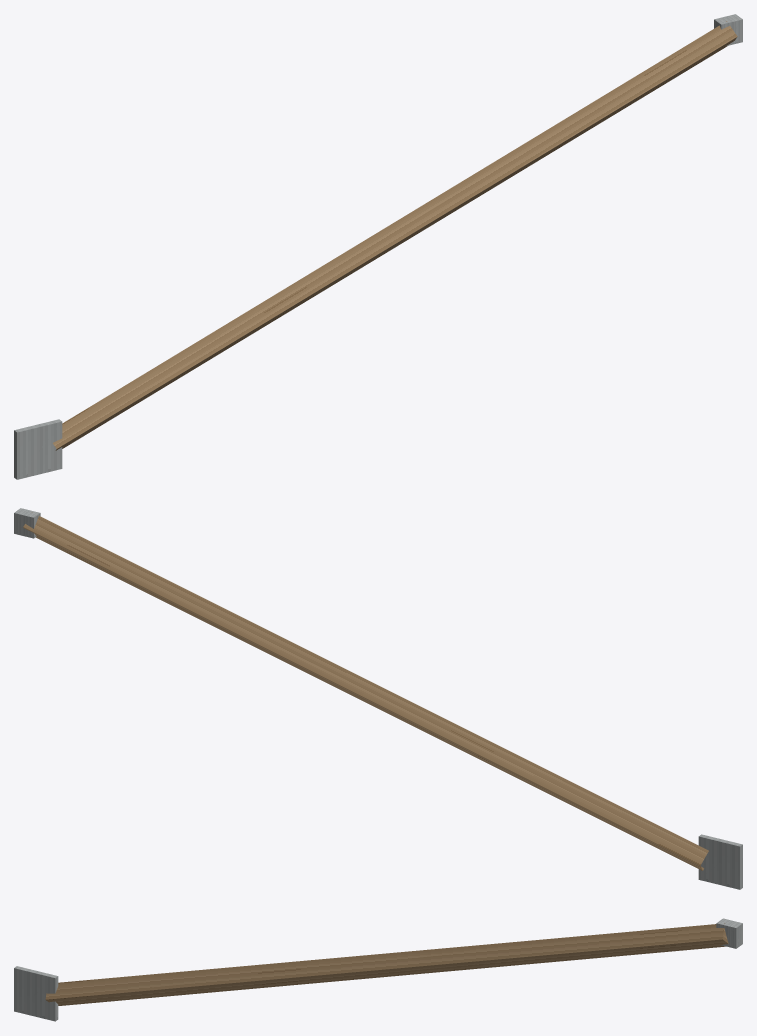
The model's file is brace_r.obj.
3 renders of one model, top to bottom at view 1: azimuth 30°, elevation 25°; view 2: azimuth 150°, elevation 25°; view 3: azimuth 330°, elevation 25°, orthographic. The views are drawn at different scales.
Parts seen in each view (by area): view 1: crossarm_alley_wood_7_r; view 2: crossarm_alley_wood_7_r; view 3: crossarm_alley_wood_7_r.
Part boxes in pixels (x1,y1,x2,y2): crossarm_alley_wood_7_r: (14, 14, 742, 479); crossarm_alley_wood_7_r: (14, 508, 742, 889); crossarm_alley_wood_7_r: (14, 918, 742, 1021).
Bounding box in the file's own units: 5.23 × 1.67 × 0.5121.
